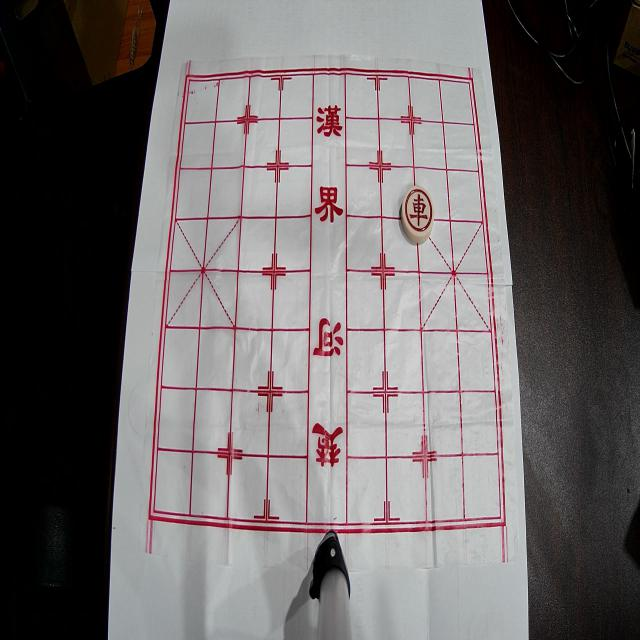red-chariot: (401, 185, 434, 243)
